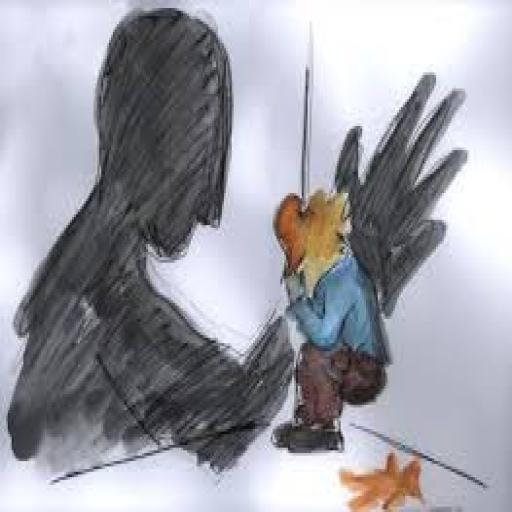person: (11, 7, 259, 477), (264, 186, 396, 463)
